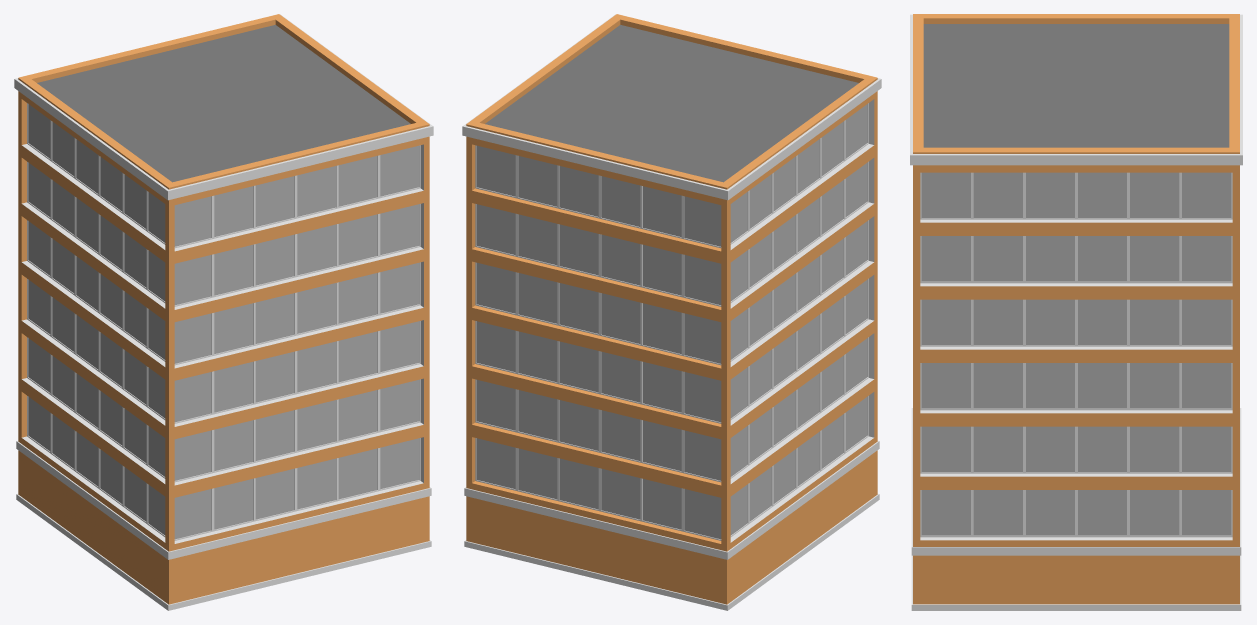
File: SM_House_04_03.FBX
The picture shows the model from 3 angles, left to right: view 1: azimuth 30°, elevation 25°; view 2: azimuth 150°, elevation 25°; view 3: azimuth 270°, elevation 25°; orthographic projection. The views are drawn at different scales.
Visible parts, largest first — view 1: SM_House_04_03; view 2: SM_House_04_03; view 3: SM_House_04_03.
Part boxes in pixels (box(x1,y1,x2,y2)): SM_House_04_03: box(14, 14, 433, 610); SM_House_04_03: box(462, 14, 881, 610); SM_House_04_03: box(910, 14, 1242, 610).
Size of the model in its own units: 6.11 by 9.28 by 6.11.
Materials: 1 (1 with a texture image).
